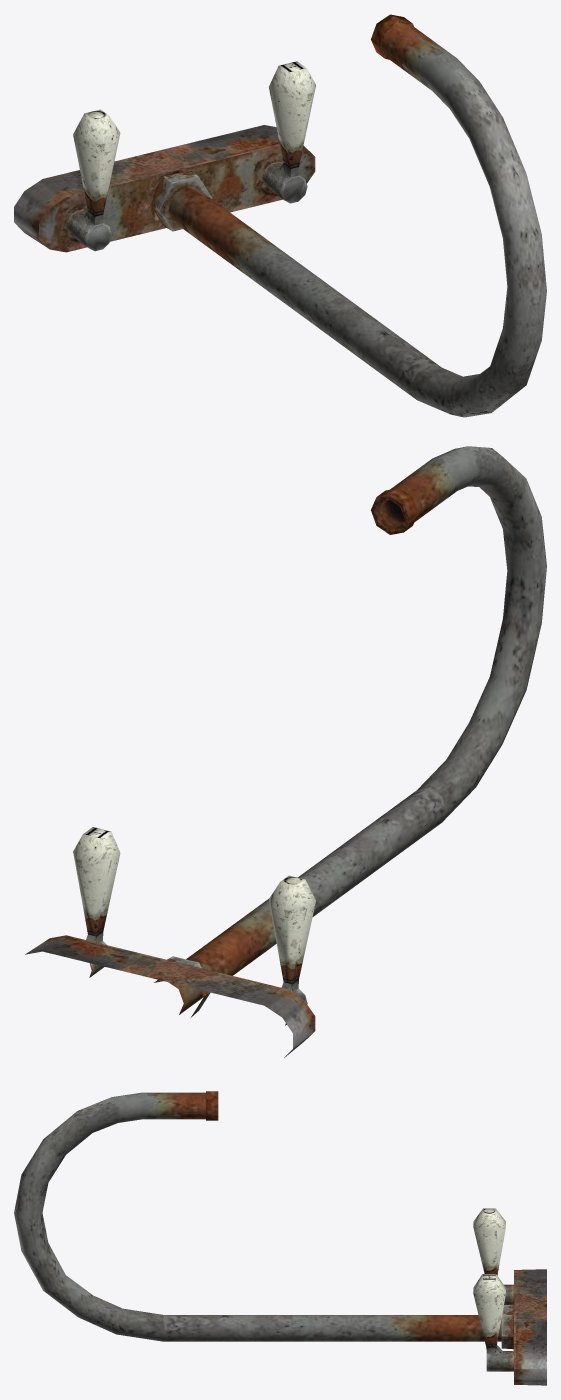
The model's file is prop_kitchen_faucet01.glb.
3 views of the same model, one above another, from view 1: azimuth 30°, elevation 25°; view 2: azimuth 150°, elevation 25°; view 3: azimuth 270°, elevation 25° (orthographic). The views are drawn at different scales.
Bounding box in the file's own units: 7.21 × 9.09 × 17.2.
1 material, 1 textured.
